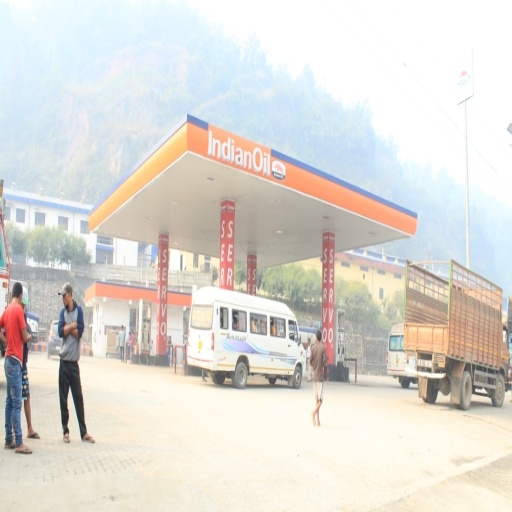roof: (87, 109, 425, 265)
